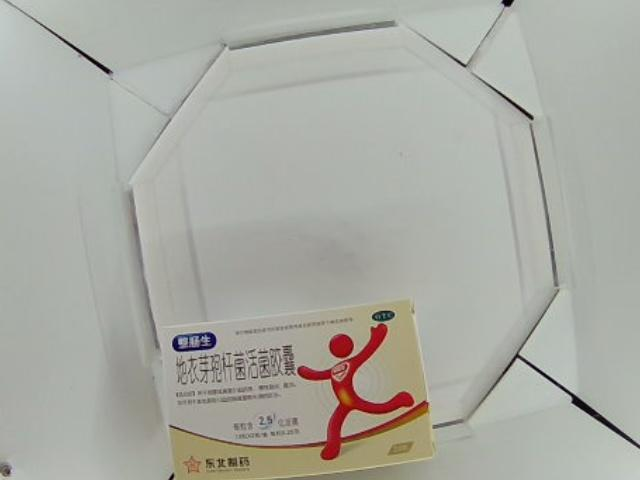Medicine: (164, 298, 437, 480)
